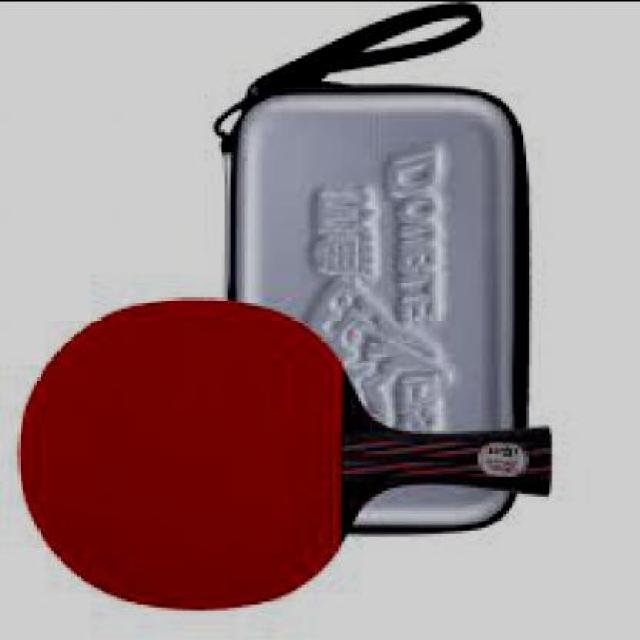table_tennis_racket: (12, 300, 552, 611)
